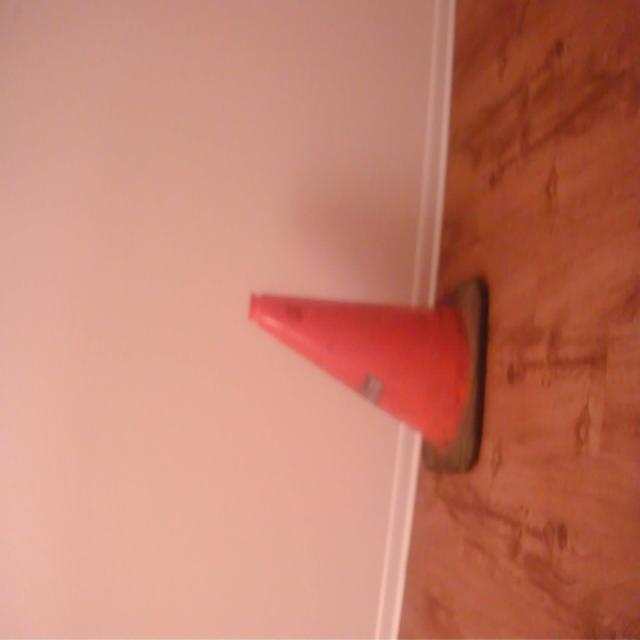traffic cone: (243, 272, 493, 479)
